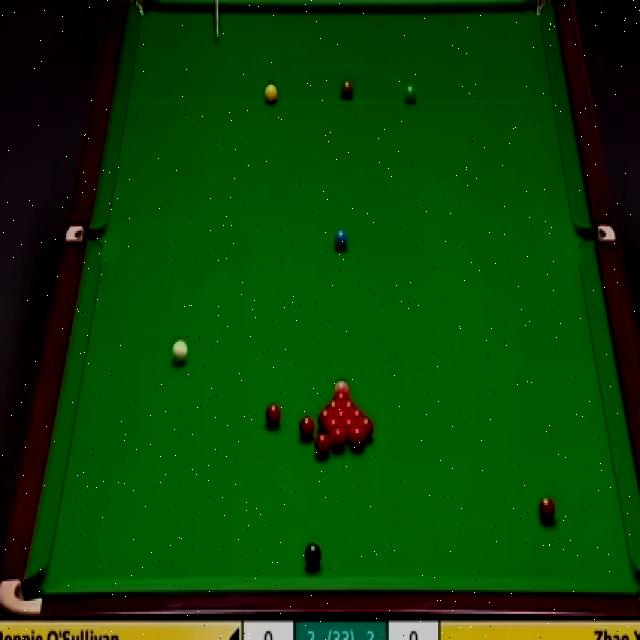black-ball: (304, 540, 321, 570)
blue-ball: (332, 227, 349, 253)
brown-ball: (340, 81, 353, 100)
green-ball: (404, 84, 417, 105)
pink-ball: (334, 377, 350, 391)
red-ball: (297, 414, 315, 444), (264, 404, 284, 431), (538, 494, 555, 522), (314, 433, 331, 461), (358, 417, 375, 441), (349, 427, 366, 450), (330, 428, 345, 453), (325, 416, 342, 438), (342, 416, 358, 438), (340, 400, 359, 414), (332, 390, 351, 400), (331, 408, 348, 419), (318, 408, 332, 421), (325, 400, 342, 410), (349, 409, 365, 419)
white-ball: (170, 334, 190, 364)
yellow-ball: (264, 82, 279, 105)
